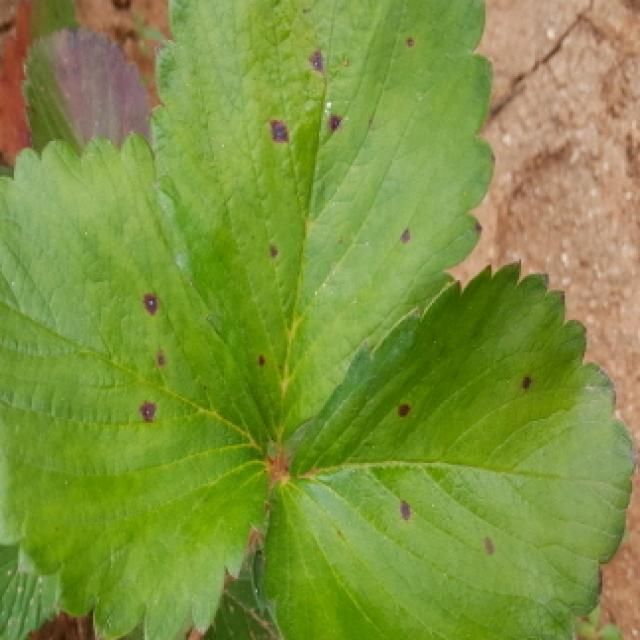Leaf Spot: (147, 0, 495, 468), (250, 260, 639, 640), (0, 132, 275, 640)
